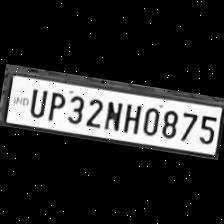0: (138, 102, 162, 138)
2: (82, 94, 106, 128)
3: (62, 91, 86, 125)
5: (194, 111, 219, 146)
7: (176, 109, 198, 143)
8: (158, 106, 180, 140)
H: (120, 100, 143, 134)
N: (100, 97, 122, 131)
P: (43, 88, 66, 122)
U: (23, 85, 48, 119)
